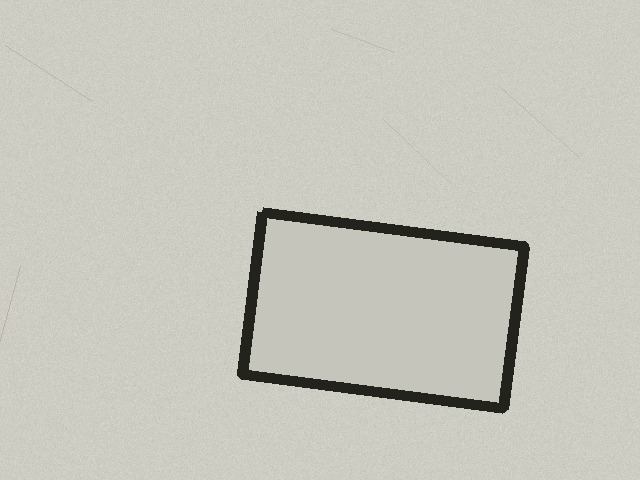parking_area: (242, 212, 524, 408)
